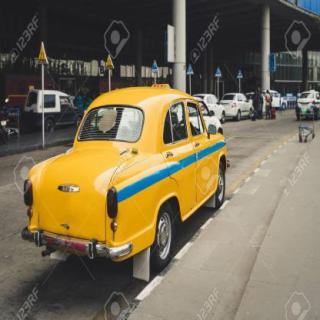Normal_vehicle: (22, 85, 228, 280)
